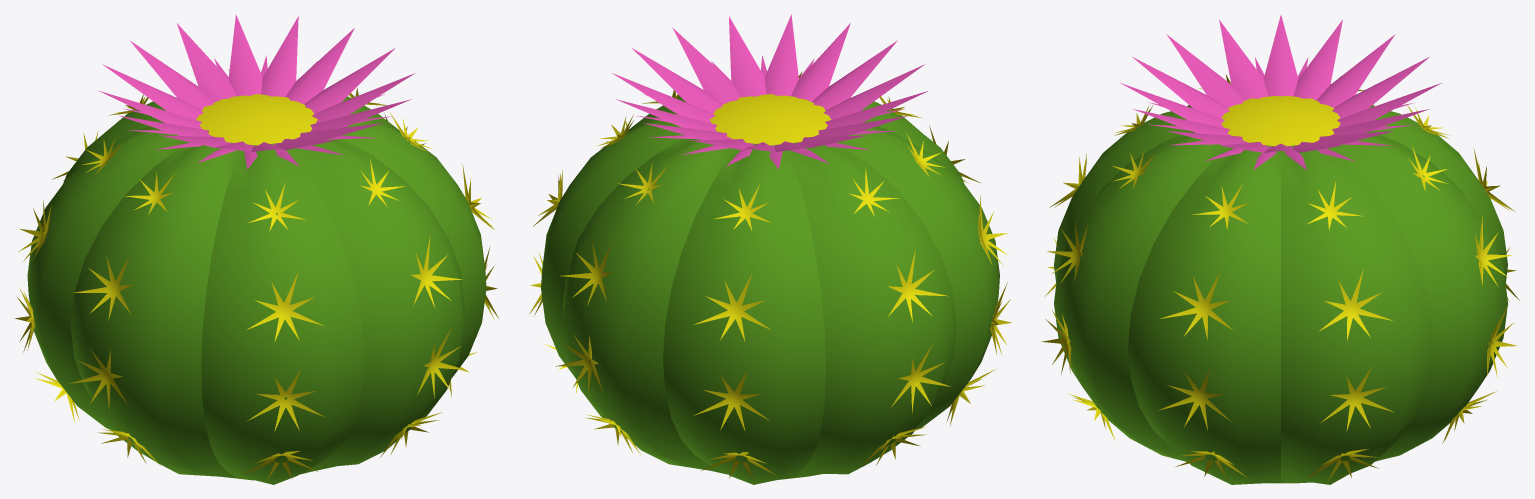
Rendered from roundcactus.fbx.
3 renders of one model, left to right at view 1: azimuth 30°, elevation 25°; view 2: azimuth 150°, elevation 25°; view 3: azimuth 270°, elevation 25°, orthographic.
Visible parts, largest first — view 1: Barrel, Barrel.001, Barrel-thorns; view 2: Barrel, Barrel.001, Barrel-thorns; view 3: Barrel, Barrel.001, Barrel-thorns.
Boxes of the visible parts, left/top/right/bottom form: Barrel: left=27, top=96, right=486, bottom=484; Barrel.001: left=98, top=14, right=415, bottom=169; Barrel-thorns: left=14, top=69, right=498, bottom=479; Barrel: left=541, top=96, right=999, bottom=484; Barrel.001: left=612, top=14, right=927, bottom=169; Barrel-thorns: left=529, top=72, right=1011, bottom=479; Barrel: left=1054, top=105, right=1507, bottom=484; Barrel.001: left=1120, top=15, right=1441, bottom=169; Barrel-thorns: left=1041, top=74, right=1519, bottom=480.
Size of the model in its own units: 313 by 261 by 311.
